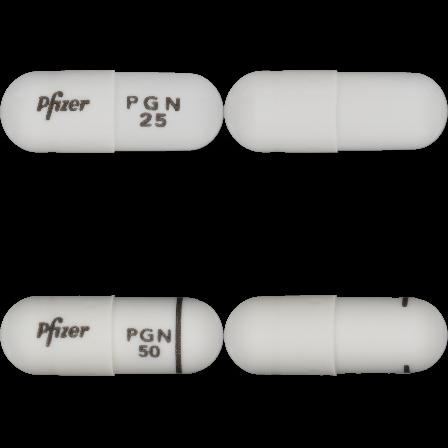0071-1012: (0, 0, 224, 224)
